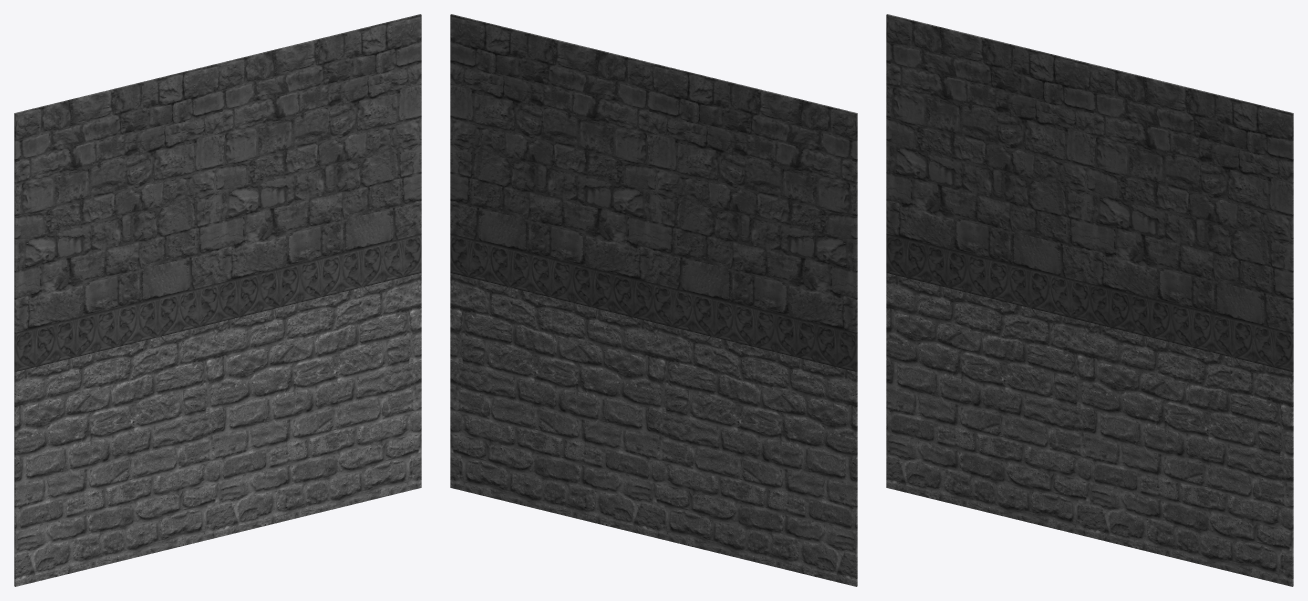
File: wall.fbx
3 renders of one model, left to right at view 1: azimuth 30°, elevation 25°; view 2: azimuth 150°, elevation 25°; view 3: azimuth 330°, elevation 25°, orthographic.
Visible parts, largest first — view 1: Plane; view 2: Plane; view 3: Plane.
Part boxes in pixels (<box>): Plane: <box>14,14,421,586</box>; Plane: <box>450,14,857,586</box>; Plane: <box>886,14,1293,586</box>.
Bounding box in the file's own units: 1711 × 1903 × 7.5.
Materials: 1 (1 with a texture image).
